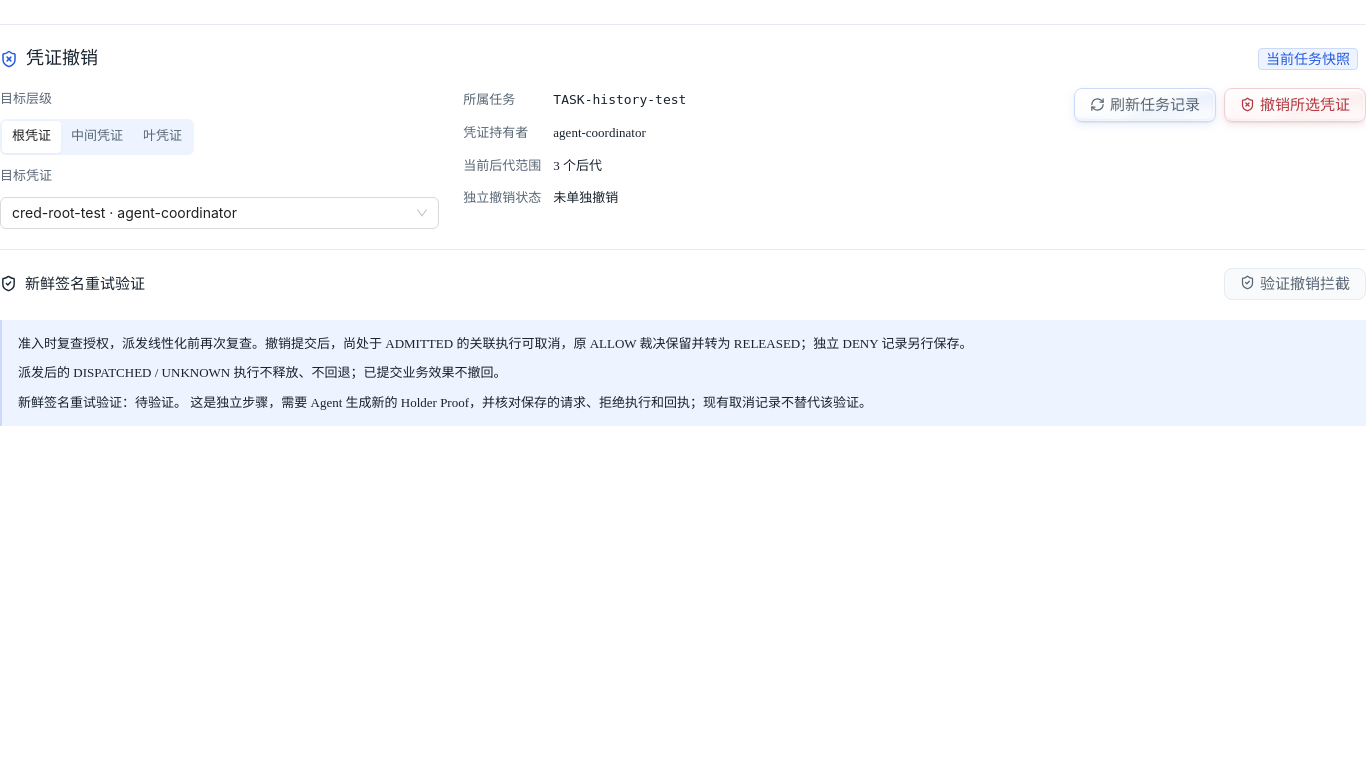
Test: CredentialRevocationPanel › keeps a confirmed response distinct from a failed task refresh
The image size is (1366, 768).
Click the button "撤销所选凭证": (1295, 105) [1224, 88, 1365, 122]
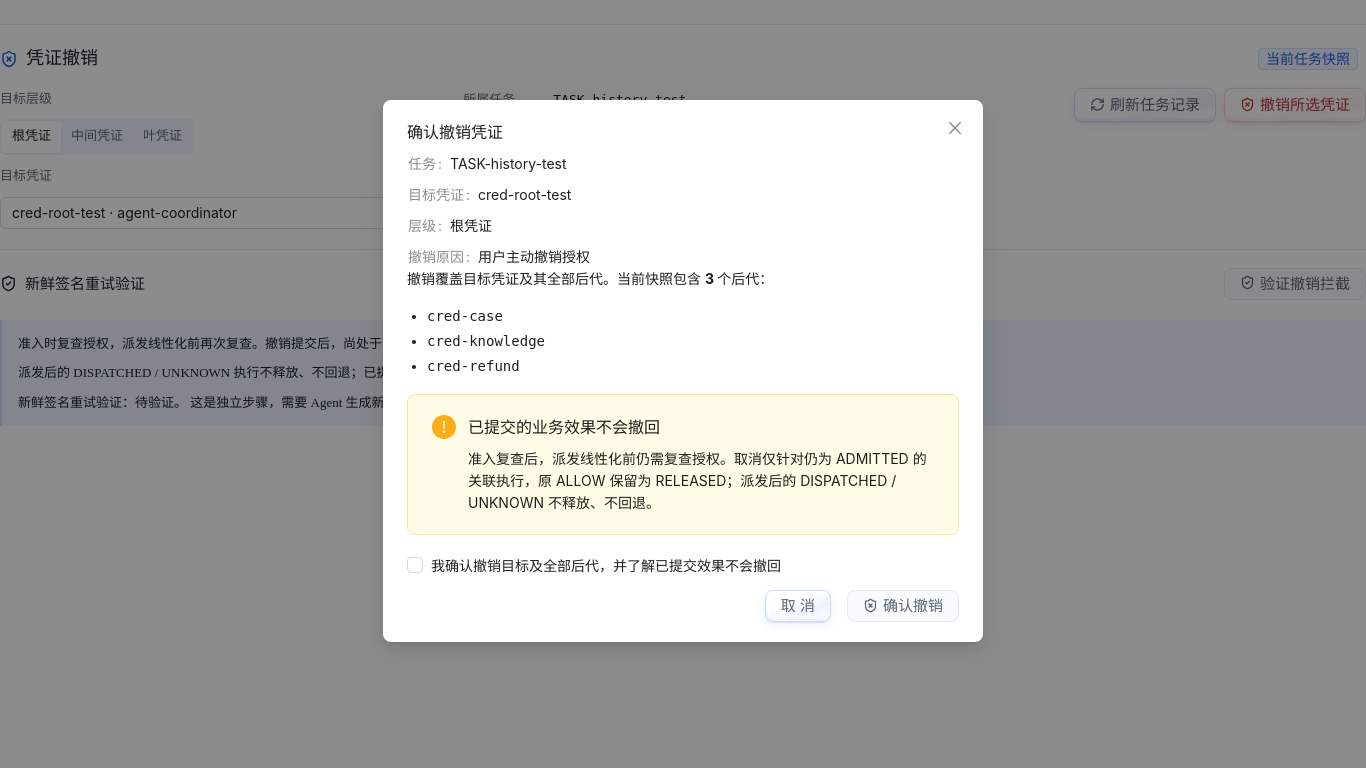
Click the checkbox: (598, 565) [407, 553, 789, 578]
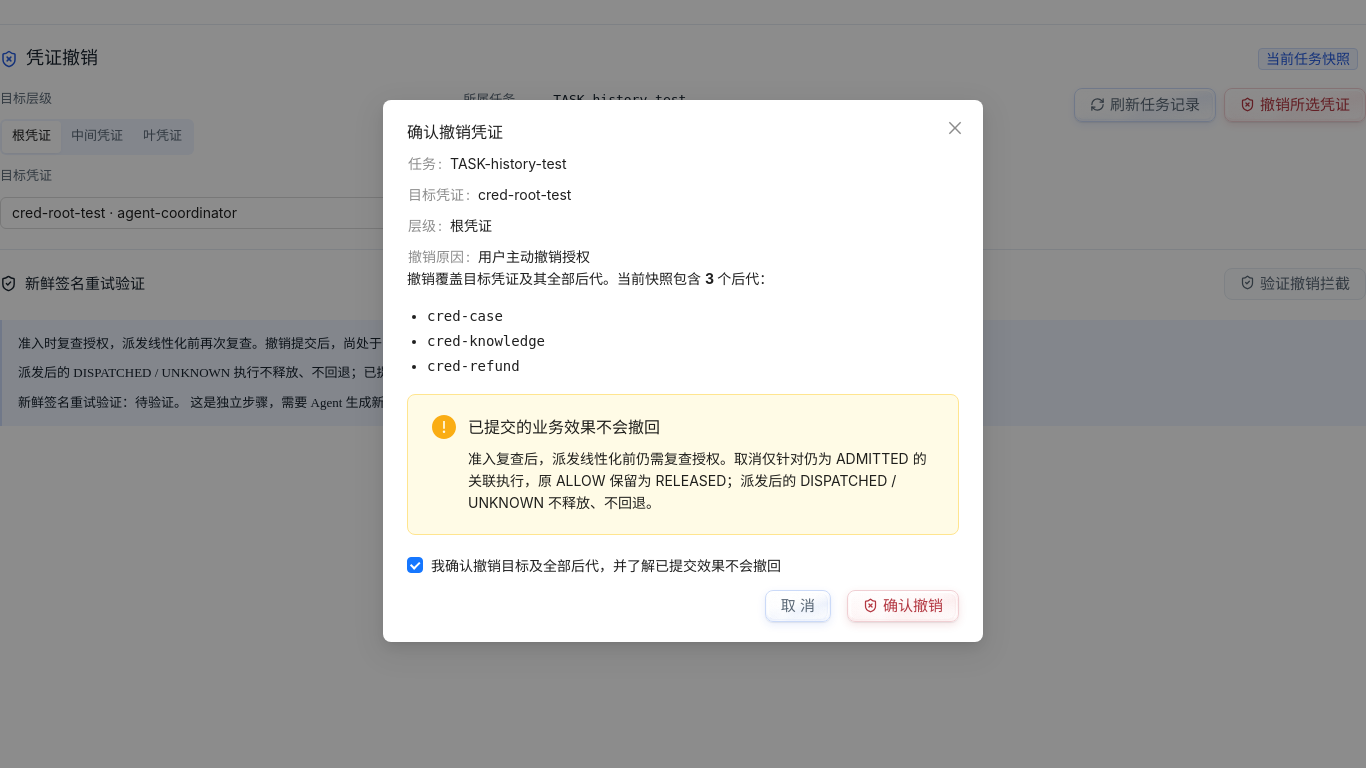
Click the button "确认撤销": (903, 606) [847, 590, 959, 622]
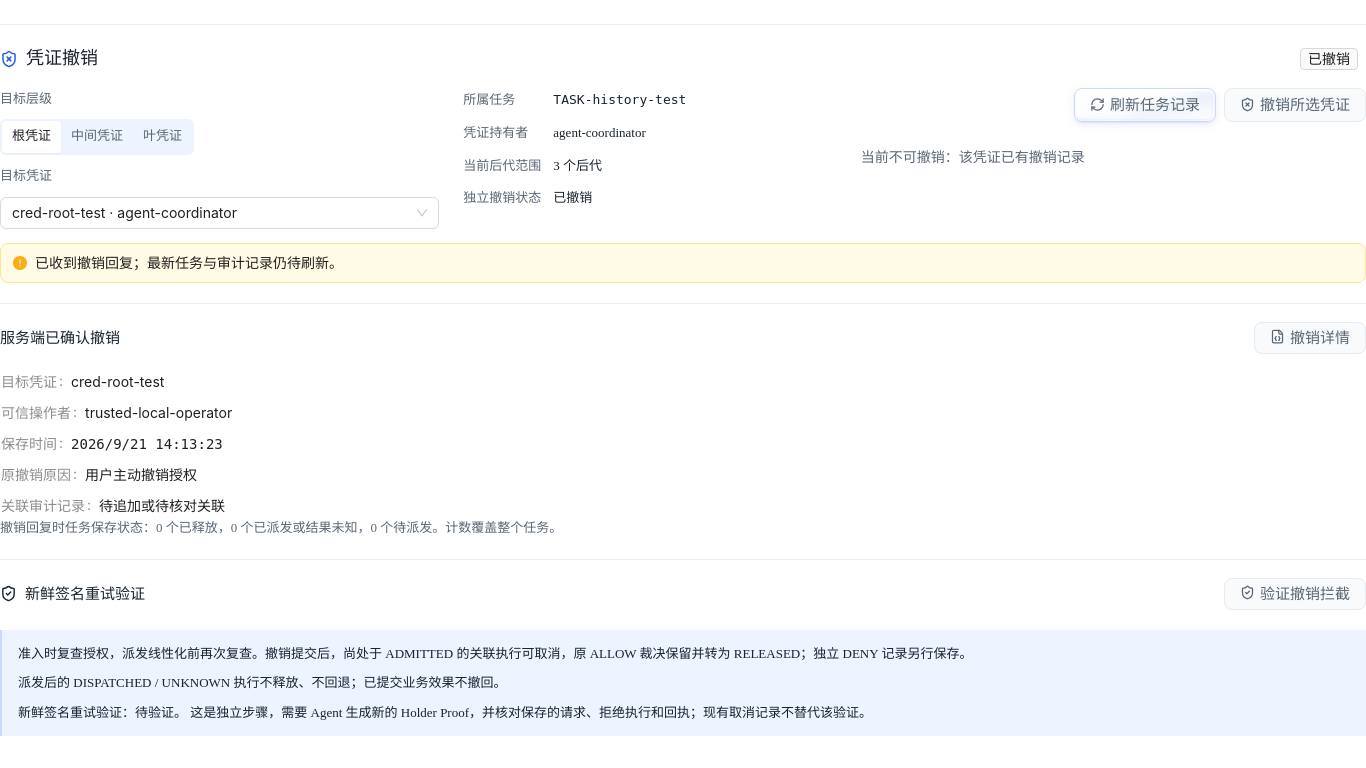
Expected: the heading "服务端已确认撤销" is shown, [0, 327, 120, 349]
Expected: the text "已收到撤销回复；最新任务与审计记录仍待刷新。" is shown, [35, 254, 343, 271]
Expected: the button "撤销所选凭证" is disabled, [1224, 88, 1365, 122]
